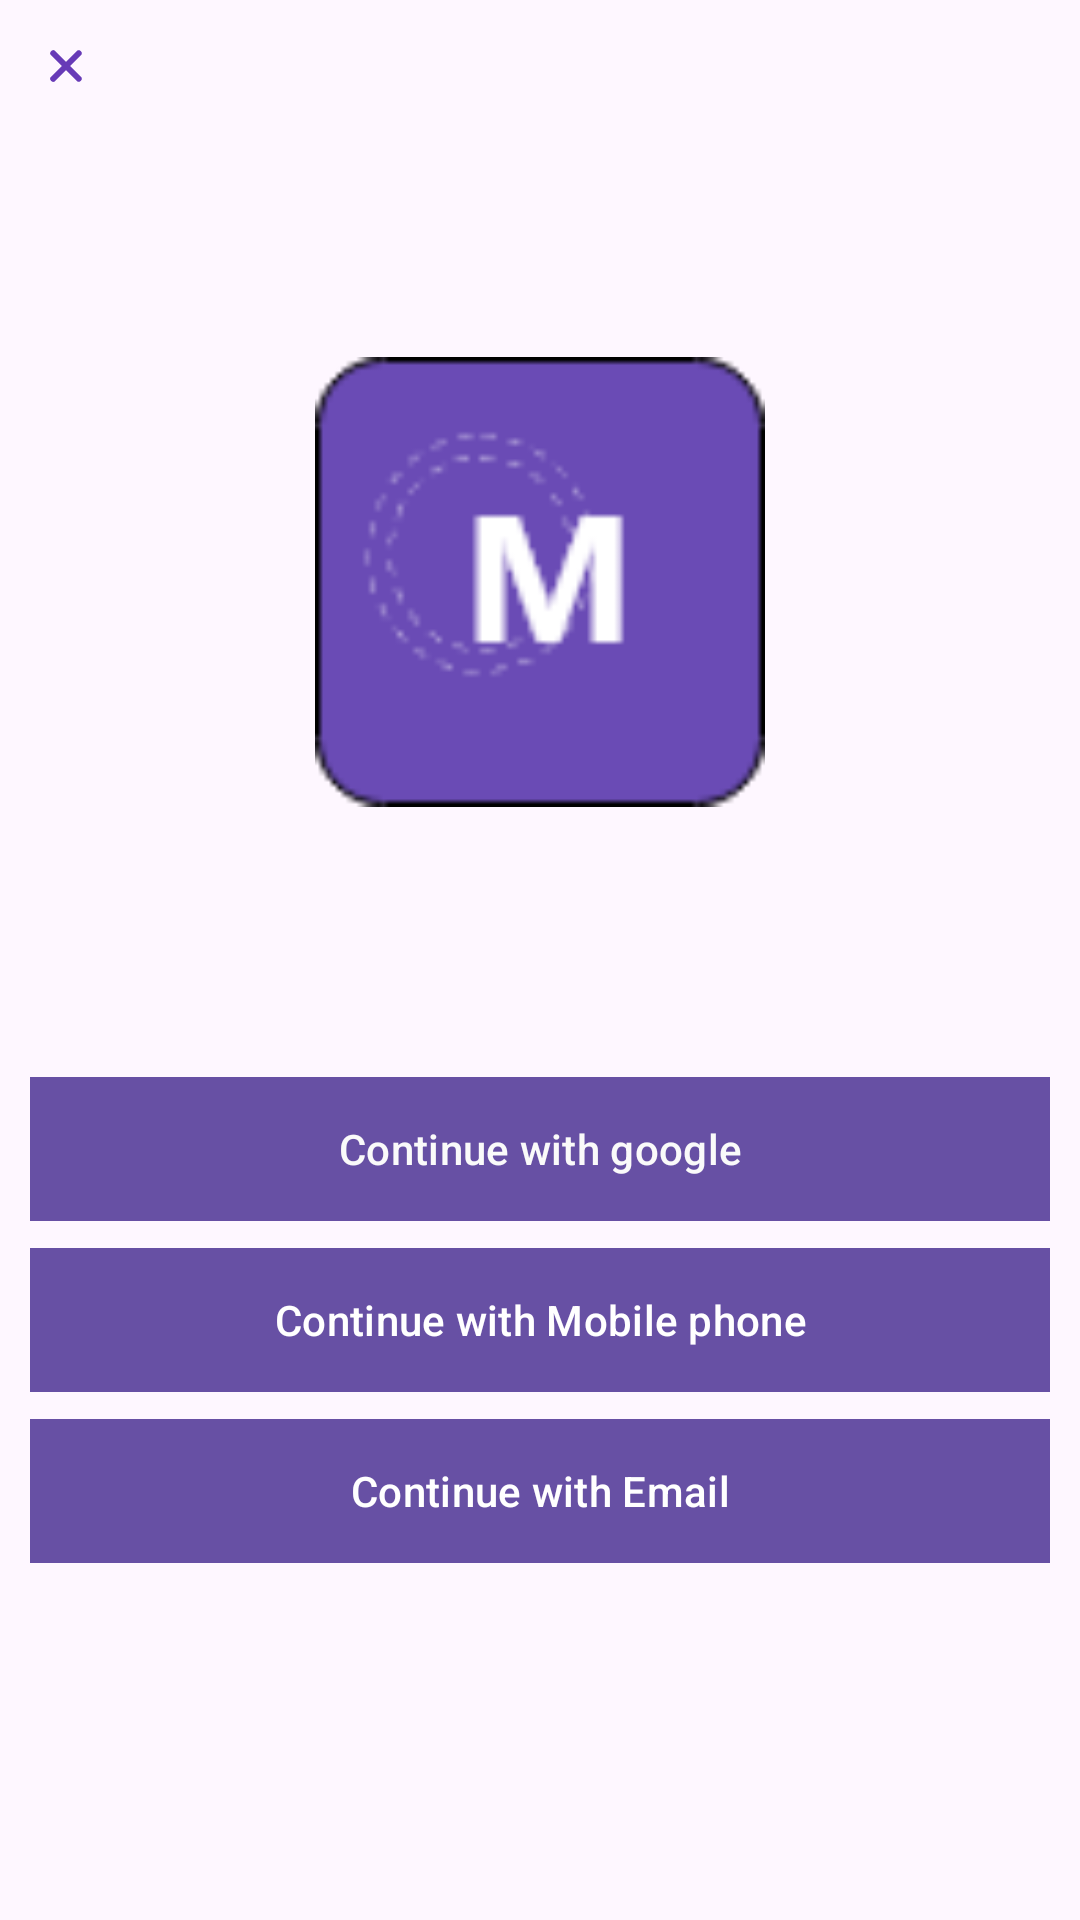

Screen size 1080w x 1920h. Icon name, then its box in pixels as (x1, y1, x2, y2):
close: (50, 50, 82, 82)
